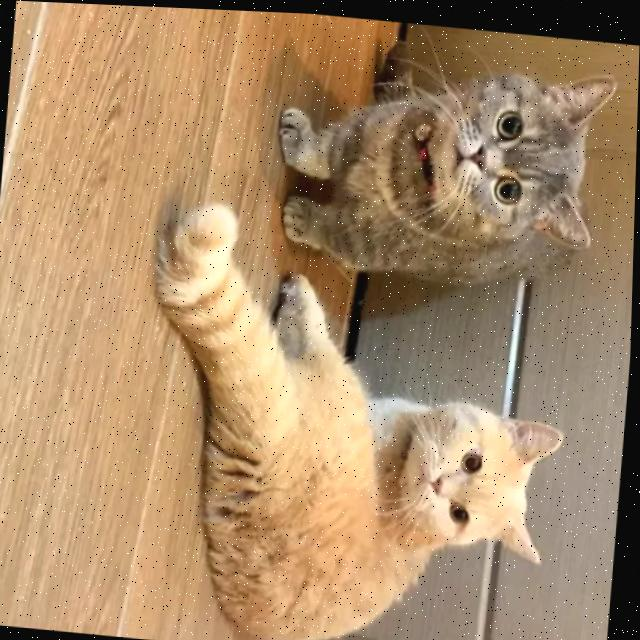Munchkin: (123, 192, 584, 640), (266, 36, 621, 293)
